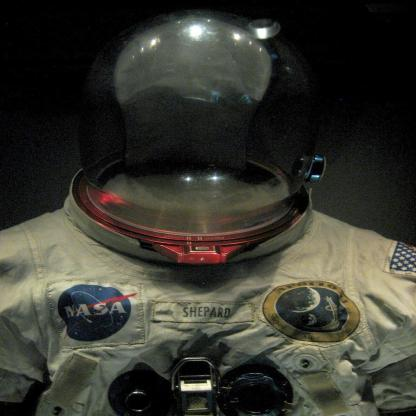Helmet: (74, 10, 331, 264)
